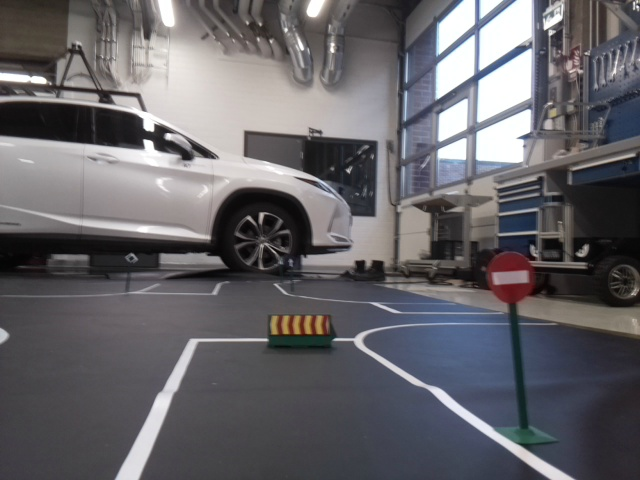ClosedRoadStand: (267, 312, 331, 335)
NoEntry: (485, 252, 536, 302)
